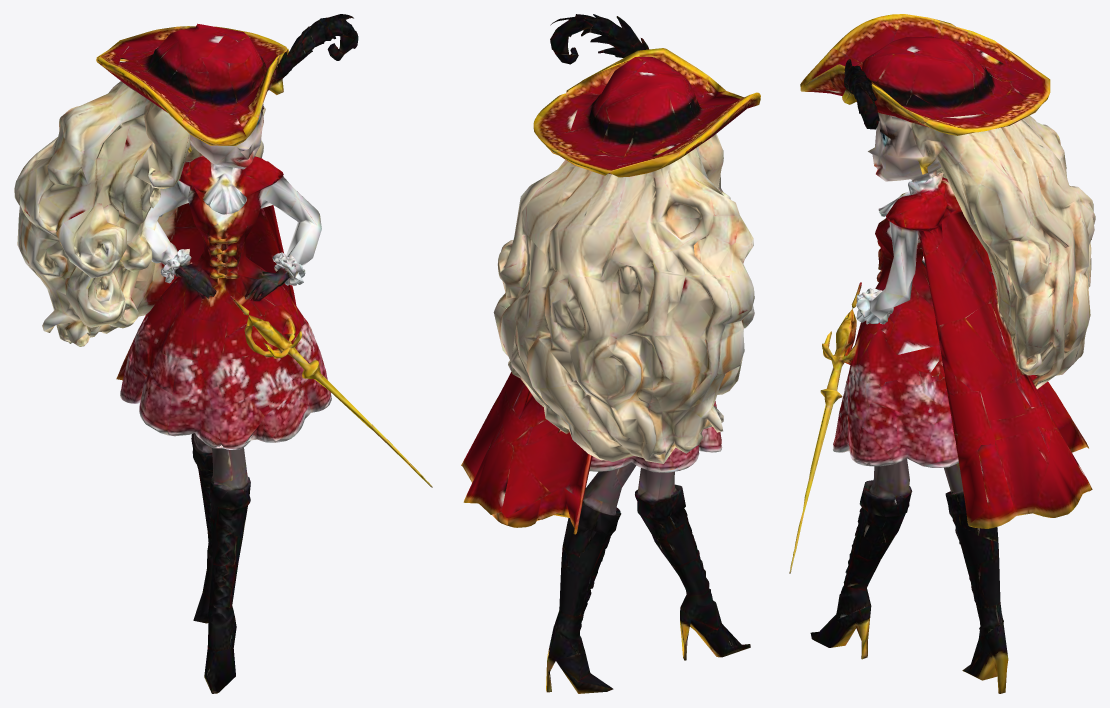
File: princess.glb
The picture shows the model from 3 angles, left to right: view 1: azimuth 30°, elevation 25°; view 2: azimuth 150°, elevation 25°; view 3: azimuth 270°, elevation 25°; orthographic projection. The views are drawn at different scales.
Visible parts, largest first — view 1: Mesh_0_Material.001_0; view 2: Mesh_0_Material.001_0; view 3: Mesh_0_Material.001_0.
Part boxes in pixels (bbox=[...]): Mesh_0_Material.001_0: bbox=[14, 14, 432, 693]; Mesh_0_Material.001_0: bbox=[461, 14, 760, 693]; Mesh_0_Material.001_0: bbox=[789, 14, 1095, 693].
Size of the model in its own units: 0.948 by 1.9 by 0.8274.
1 material, 1 textured.
